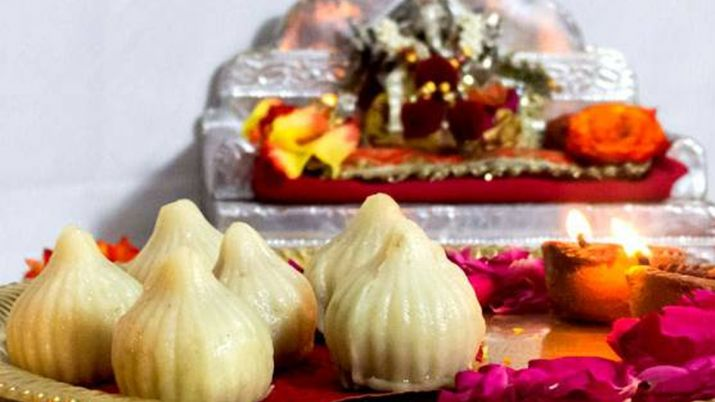modak: (115, 246, 280, 402), (341, 221, 495, 388), (22, 228, 135, 371)
